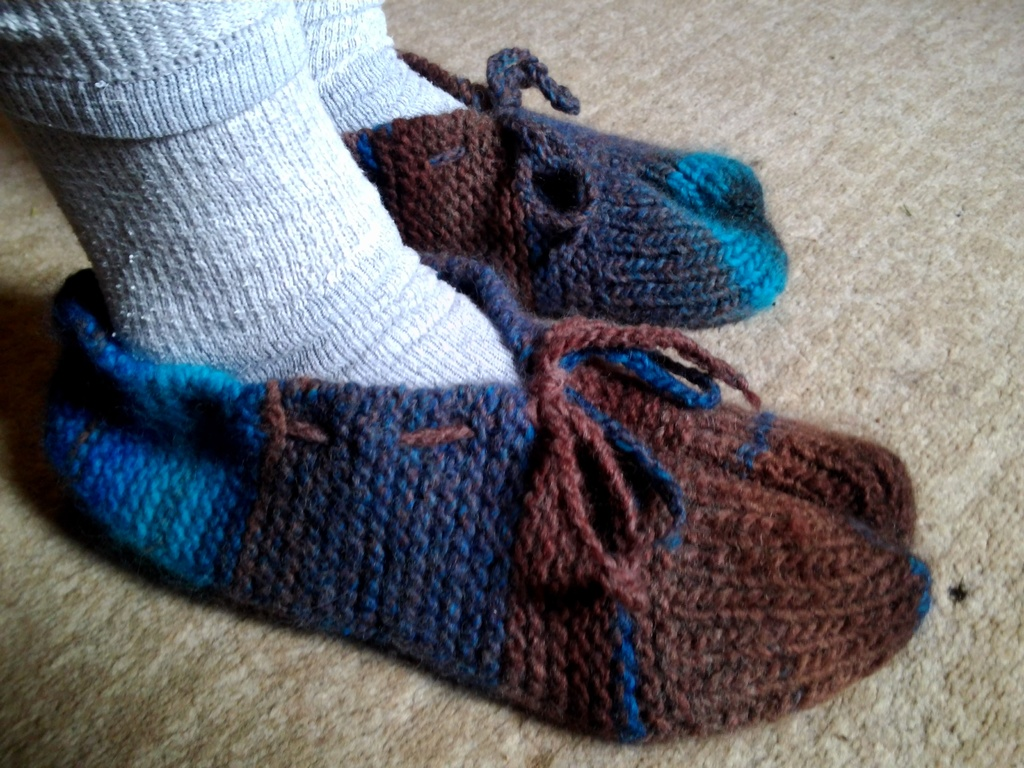Footwear: (35, 249, 933, 756), (338, 38, 794, 371)
